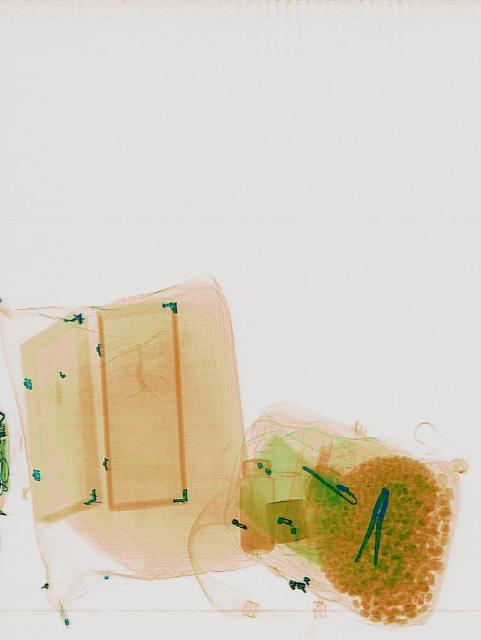Pliers: (350, 483, 396, 569)
